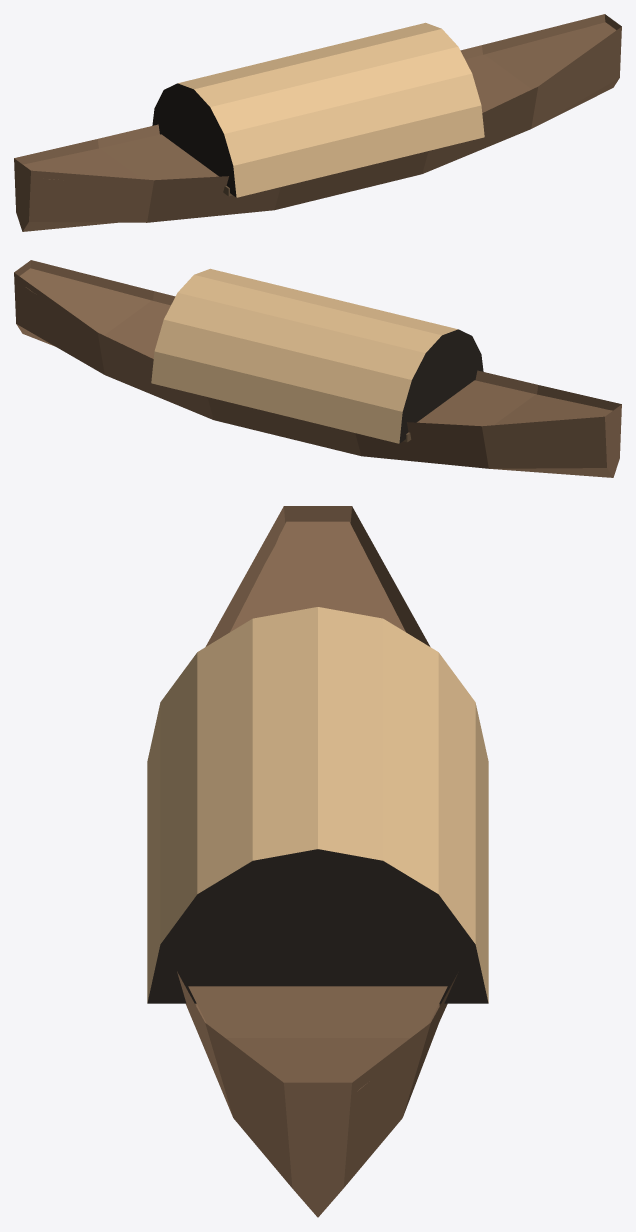
File: K13c_far.glb
3 views of the same model, one above another, from view 1: azimuth 30°, elevation 25°; view 2: azimuth 150°, elevation 25°; view 3: azimuth 270°, elevation 25° (orthographic). The views are drawn at different scales.
Visible parts, largest first — view 1: K13c_far; view 2: K13c_far; view 3: K13c_far.
Part boxes in pixels (bbox=[...]): K13c_far: bbox=[14, 14, 621, 231]; K13c_far: bbox=[14, 260, 621, 477]; K13c_far: bbox=[147, 506, 488, 1217].
Bounding box in the file's own units: 12 × 2.44 × 3.
